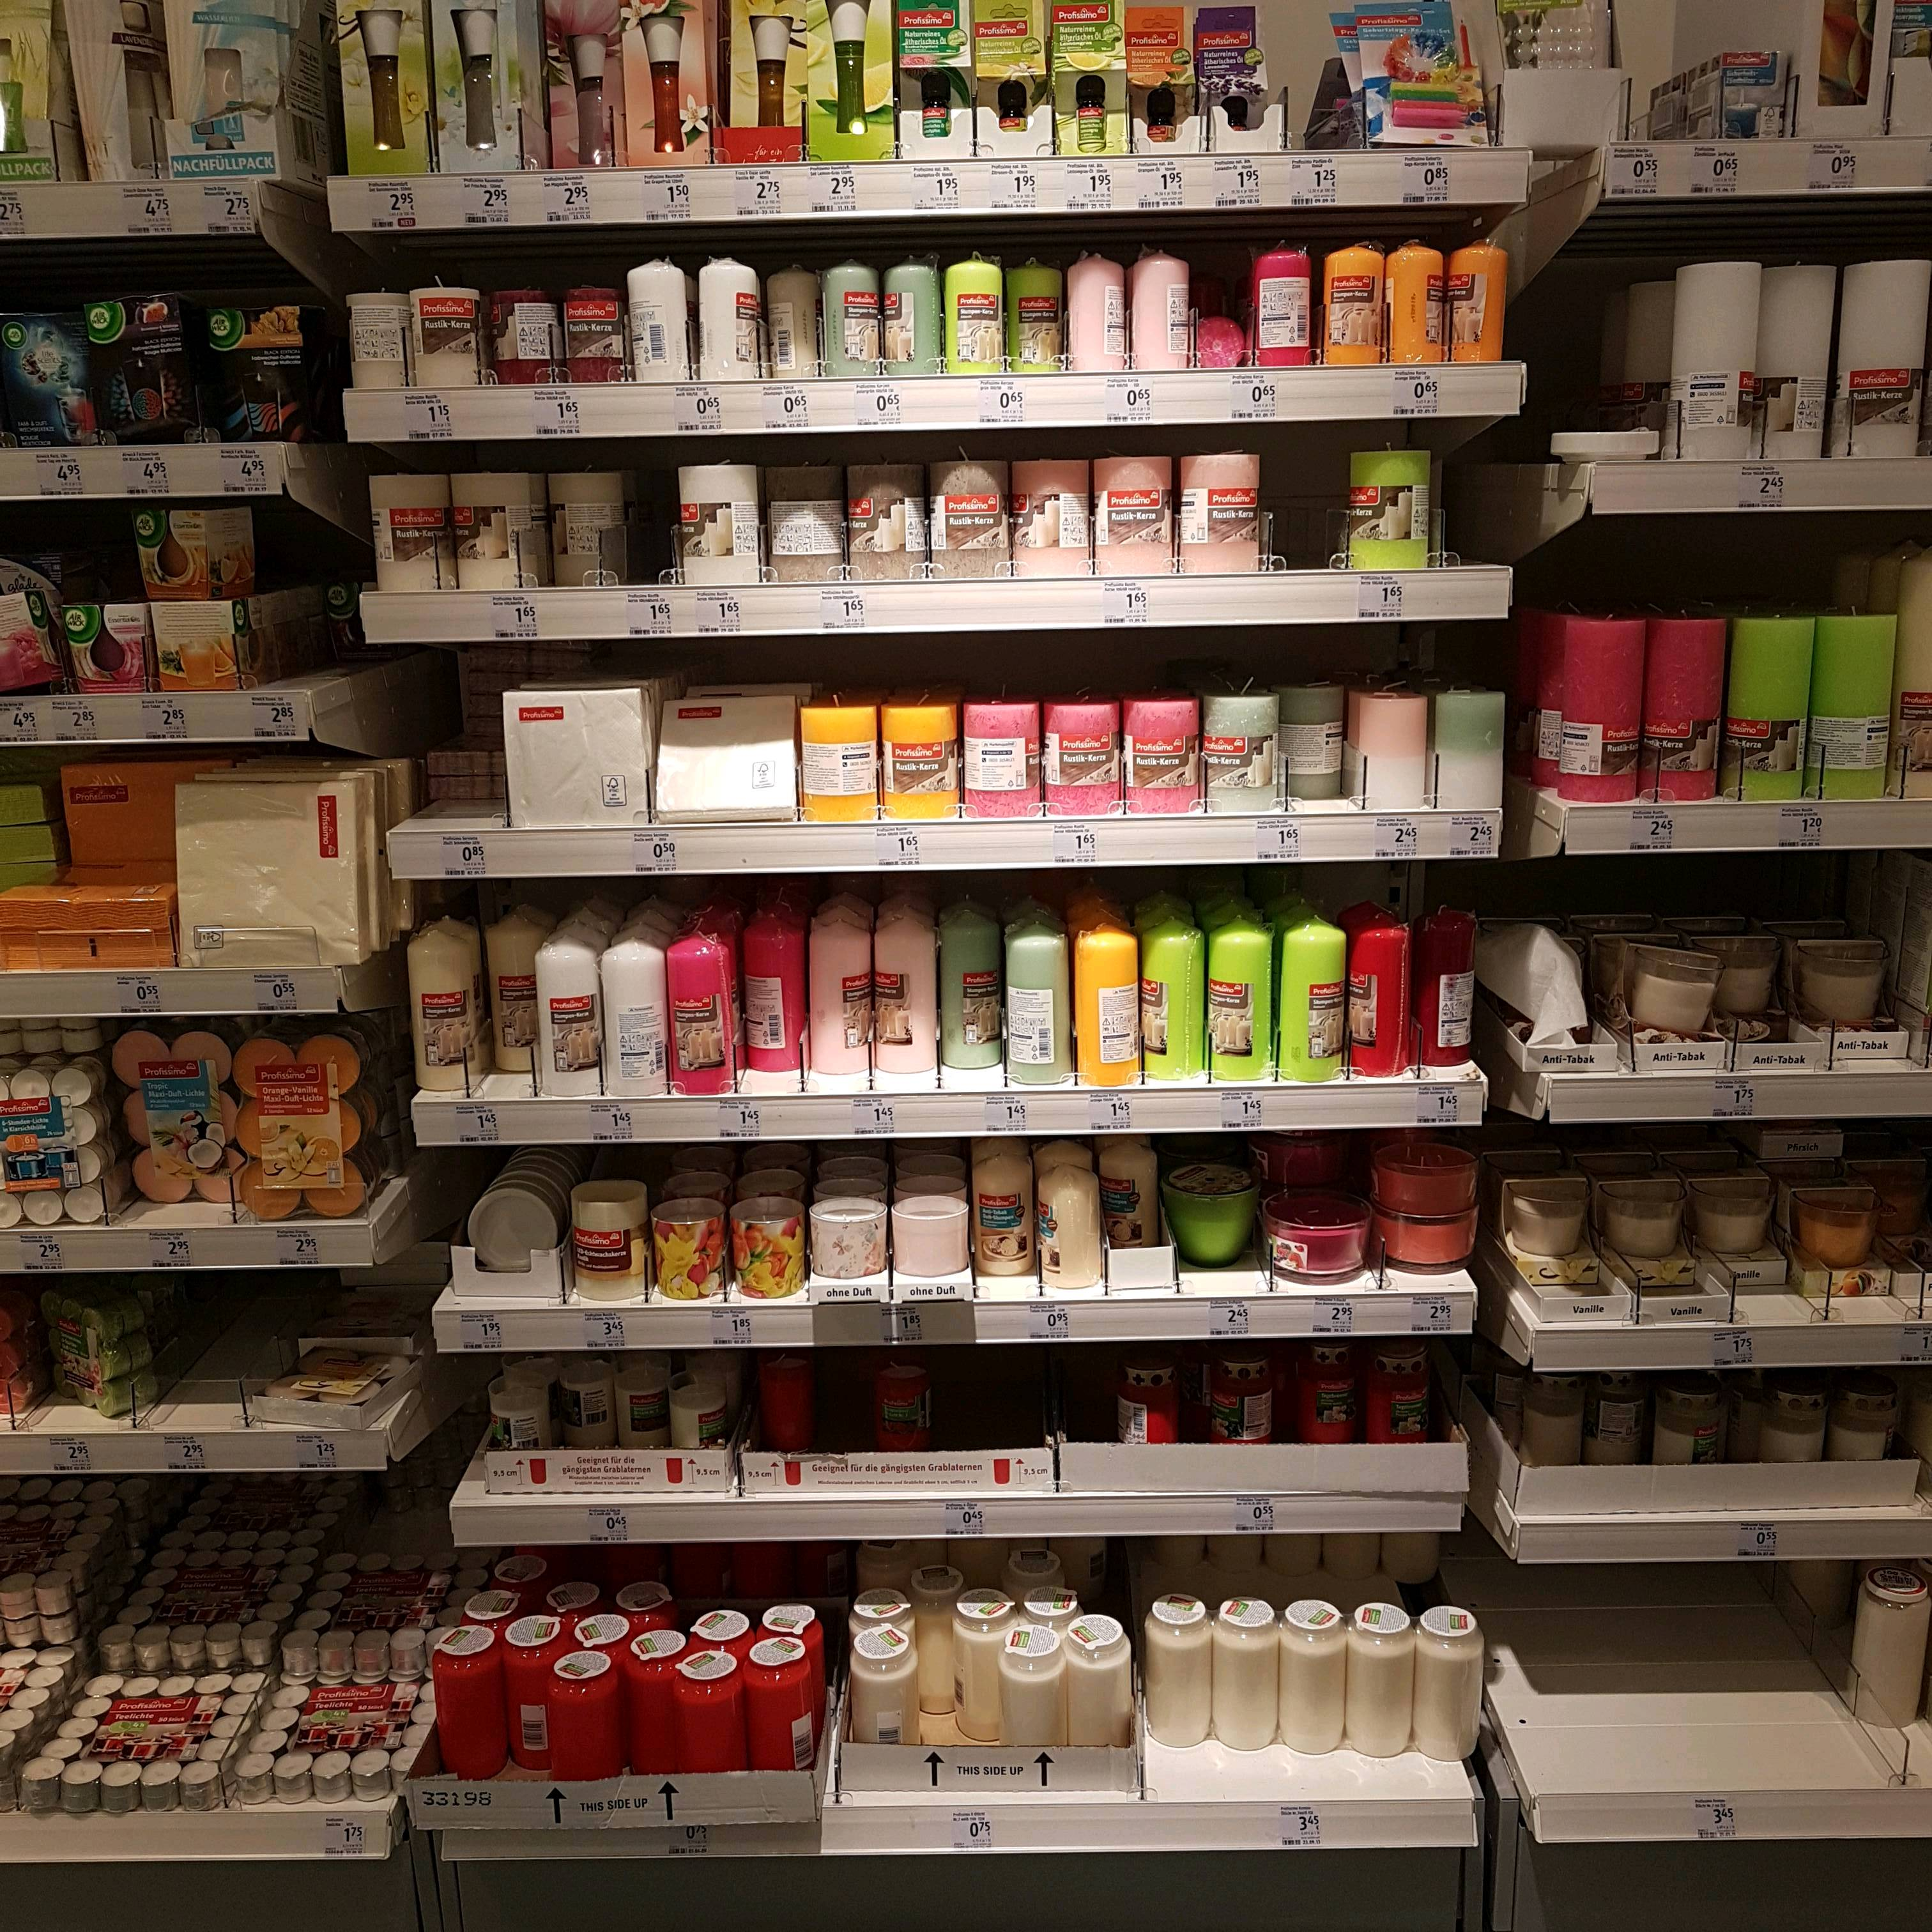product: (175, 773, 357, 962), (234, 1030, 370, 1223), (115, 1024, 226, 1214), (504, 688, 651, 828), (168, 0, 281, 175), (1348, 0, 1483, 145), (0, 1056, 110, 1233), (1840, 248, 1932, 458), (32, 1283, 168, 1417), (60, 0, 161, 175), (83, 290, 195, 448), (1555, 603, 1640, 809), (1730, 602, 1815, 807), (202, 303, 311, 460), (1497, 2, 1615, 145), (662, 697, 796, 821), (1681, 251, 1757, 465), (336, 0, 428, 173), (432, 0, 524, 173), (1645, 600, 1720, 809), (621, 0, 709, 166), (1819, 600, 1890, 807), (805, 0, 890, 161), (1345, 433, 1437, 577), (1798, 0, 1893, 136), (1764, 255, 1828, 458), (540, 0, 616, 168), (725, 0, 803, 163), (403, 922, 474, 1093), (1196, 0, 1276, 152), (1421, 1598, 1488, 1775), (662, 927, 731, 1099), (283, 1345, 402, 1444), (899, 0, 971, 161), (977, 0, 1049, 161), (363, 464, 449, 593), (1858, 1562, 1923, 1732), (1141, 908, 1205, 1081), (1007, 920, 1070, 1093), (1276, 911, 1339, 1085), (750, 1642, 823, 1794), (1207, 913, 1270, 1085), (1178, 448, 1265, 573), (453, 465, 538, 593), (927, 437, 1005, 575), (1352, 909, 1414, 1083), (1054, 0, 1122, 159), (1127, 0, 1194, 159), (672, 455, 754, 586), (0, 310, 76, 449), (872, 904, 932, 1077), (674, 1654, 748, 1794), (543, 469, 632, 586), (766, 451, 844, 584), (602, 932, 663, 1099), (1010, 448, 1090, 577), (962, 688, 1039, 823), (1421, 895, 1479, 1070), (807, 911, 869, 1076), (1042, 692, 1122, 819), (738, 911, 800, 1074), (0, 0, 55, 182), (759, 1327, 833, 1461), (570, 1182, 648, 1309), (1077, 925, 1138, 1090), (1208, 676, 1279, 816), (847, 448, 918, 586), (1261, 1192, 1369, 1283), (803, 692, 878, 823), (1125, 688, 1200, 819), (1095, 448, 1171, 575), (1284, 1596, 1345, 1757), (939, 913, 1001, 1069), (1497, 931, 1601, 1023), (62, 764, 166, 856), (883, 694, 957, 823), (1435, 676, 1506, 810), (1362, 676, 1431, 810), (1152, 1596, 1210, 1753), (543, 929, 598, 1095), (1173, 1161, 1251, 1277), (23, 1757, 219, 1803), (1628, 936, 1713, 1042), (1506, 1169, 1587, 1279), (1373, 1132, 1488, 1208), (485, 904, 536, 1074), (1359, 1601, 1412, 1760), (150, 600, 246, 688), (1605, 1175, 1686, 1277), (1076, 1615, 1132, 1762), (697, 248, 759, 380), (1368, 1329, 1444, 1437), (101, 1624, 271, 1672), (1384, 235, 1445, 366), (441, 1633, 506, 1757), (1005, 1628, 1060, 1775), (851, 1631, 924, 1741), (474, 1184, 554, 1283), (1288, 667, 1346, 801), (412, 280, 485, 387), (1803, 932, 1888, 1024), (975, 1150, 1033, 1283), (552, 1658, 612, 1785), (62, 600, 147, 690), (490, 281, 563, 386), (630, 260, 692, 382), (1221, 1599, 1270, 1752), (1451, 230, 1507, 363), (1375, 1212, 1488, 1277), (1323, 235, 1380, 366), (1697, 1173, 1783, 1258), (502, 1619, 548, 1778), (1714, 44, 1787, 145), (1040, 1161, 1095, 1293), (1253, 242, 1311, 366), (487, 1373, 550, 1486), (1069, 248, 1125, 375), (129, 506, 212, 593), (1790, 1173, 1868, 1265), (879, 257, 941, 372), (1132, 239, 1187, 368), (948, 251, 1005, 373), (1527, 1362, 1583, 1484), (1208, 1345, 1272, 1451), (287, 1633, 428, 1681), (1007, 255, 1063, 373), (653, 1200, 720, 1299), (1656, 1362, 1713, 1479), (1589, 1368, 1645, 1483), (1764, 1369, 1821, 1484), (823, 255, 876, 377), (1108, 1350, 1166, 1460), (1552, 410, 1658, 471), (764, 260, 817, 380), (0, 895, 170, 932), (729, 1200, 796, 1293), (1108, 1138, 1161, 1256), (345, 283, 405, 387), (1302, 1336, 1361, 1442), (872, 1359, 936, 1454), (568, 278, 625, 382), (816, 1196, 886, 1277), (1261, 1122, 1361, 1178), (895, 1192, 964, 1272), (0, 939, 170, 971), (464, 635, 587, 678), (665, 1366, 727, 1449), (1833, 1408, 1893, 1491), (561, 1355, 609, 1458), (1725, 939, 1783, 1023), (957, 1592, 987, 1750), (0, 591, 48, 688), (1879, 1146, 1932, 1231), (630, 1633, 663, 1766), (614, 1366, 665, 1449), (1748, 1125, 1845, 1164), (0, 1010, 97, 1049), (226, 1748, 347, 1778), (425, 754, 502, 800), (1192, 308, 1246, 370), (1842, 1361, 1898, 1405), (0, 552, 62, 586), (354, 1743, 384, 1808)
